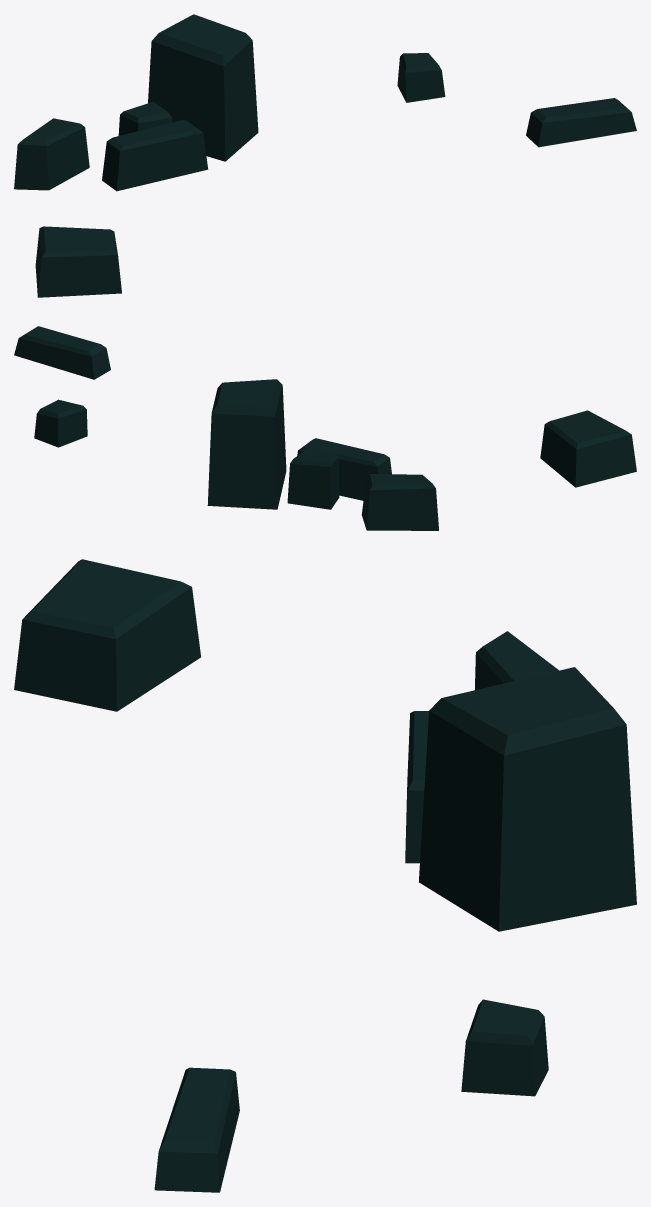
File: stones_stone_0_lev1.glb
3 views of the same model, one above another, from view 1: azimuth 30°, elevation 25°; view 2: azimuth 150°, elevation 25°; view 3: azimuth 270°, elevation 25° (orthographic). The views are drawn at different scales.
Visible parts, largest first — view 1: stones_stone_0_lev1; view 2: stones_stone_0_lev1; view 3: stones_stone_0_lev1.
Boxes of the visible parts, x1,y1,x2,y2 form: stones_stone_0_lev1: [14, 14, 636, 297]; stones_stone_0_lev1: [14, 326, 636, 530]; stones_stone_0_lev1: [14, 559, 636, 1192].
Size of the model in its own units: 1.77 by 0.2822 by 0.8248.
